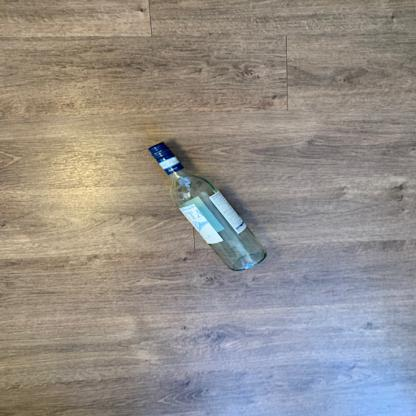trash: (146, 138, 272, 273)
